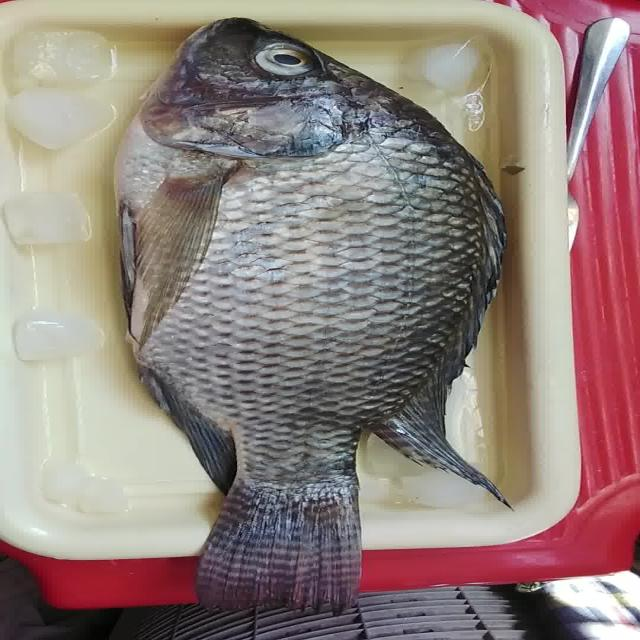Fresh: (93, 108, 529, 620), (233, 42, 346, 88)
